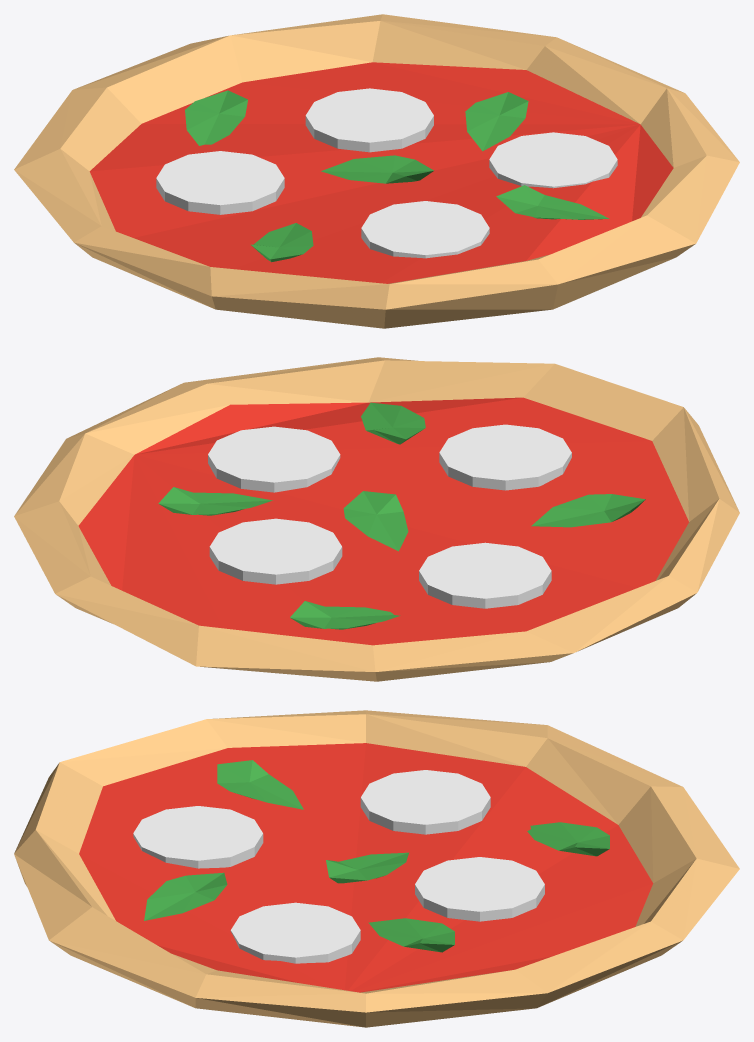
File: pizza.glb
3 renders of one model, top to bottom at view 1: azimuth 30°, elevation 25°; view 2: azimuth 150°, elevation 25°; view 3: azimuth 270°, elevation 25°, orthographic. The views are drawn at different scales.
Parts seen in each view (by area): view 1: group37640679, group196961744, group826633725, group1431724707, group2102669811, group1287951463, group1548710258, group1508545483, group857691695, group1048158517; view 2: group37640679, group196961744, group826633725, group1431724707, group2102669811, group1508545483, group1048158517, group1287951463, group1548710258, group857691695; view 3: group37640679, group826633725, group196961744, group1431724707, group2102669811, group857691695, group1048158517, group1287951463, group1548710258, group1508545483.
Boxes of the visible parts, x1,y1,x2,y2 form: group37640679: (14,14,739,328); group196961744: (305,88,433,152); group826633725: (156,151,284,214); group1431724707: (361,201,489,258); group2102669811: (489,132,617,188); group1287951463: (465,92,528,151); group1548710258: (185,90,247,145); group1508545483: (321,155,433,183); group857691695: (496,185,609,219); group1048158517: (251,223,313,262); group37640679: (14,357,739,681); group196961744: (209,518,342,584); group826633725: (419,542,551,608); group1431724707: (439,424,571,490); group2102669811: (208,426,340,492); group1508545483: (343,491,408,551); group1048158517: (531,494,645,527); group1287951463: (158,487,272,515); group1548710258: (290,601,400,629); group857691695: (361,402,425,444); group37640679: (14,710,739,1027); group826633725: (360,770,490,834); group196961744: (415,857,544,921); group1431724707: (133,806,263,868); group2102669811: (230,902,360,963); group857691695: (144,872,227,920); group1048158517: (217,760,303,809); group1287951463: (368,918,454,952); group1548710258: (527,822,609,856); group1508545483: (326,852,408,883).
Size of the model in its own units: 0.66 by 0.05 by 0.67.
